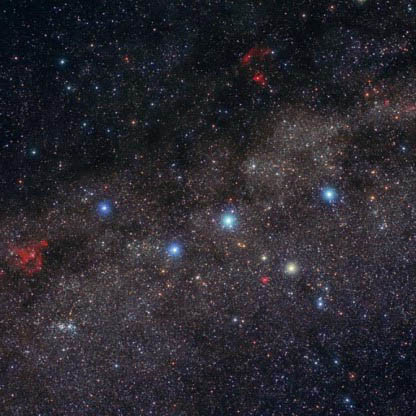Cassiopeia: (261, 247, 303, 283), (212, 197, 241, 233), (316, 169, 341, 207), (157, 237, 186, 265), (94, 191, 120, 219)
